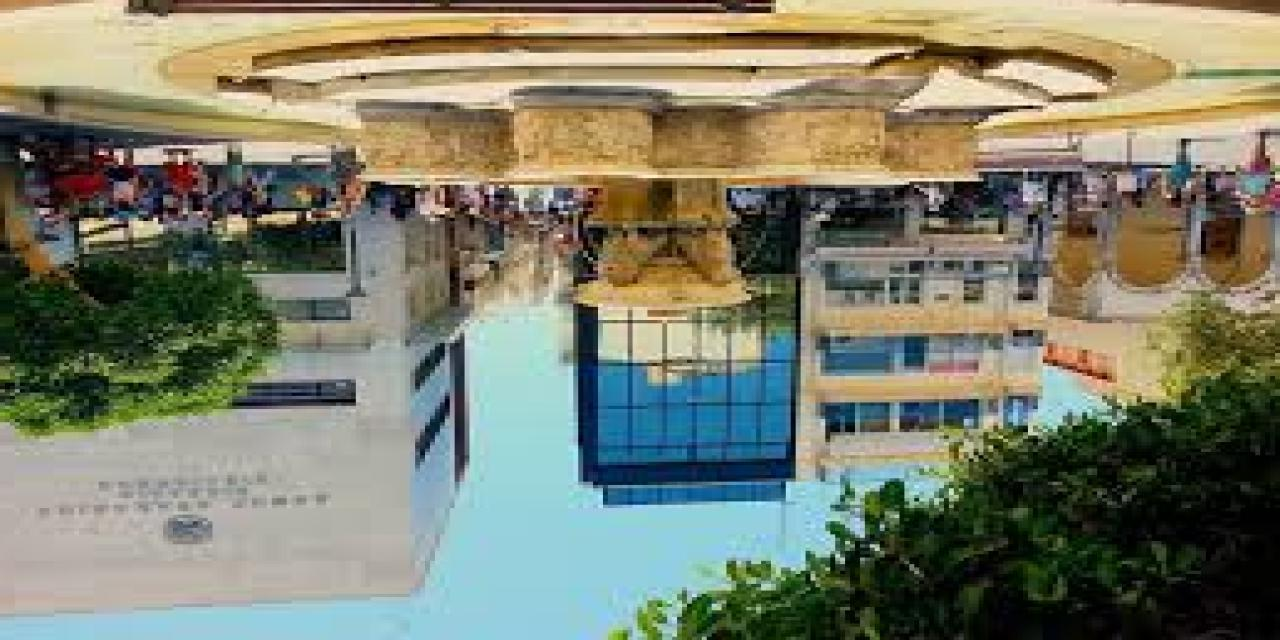Liontaria: (356, 86, 986, 314)
